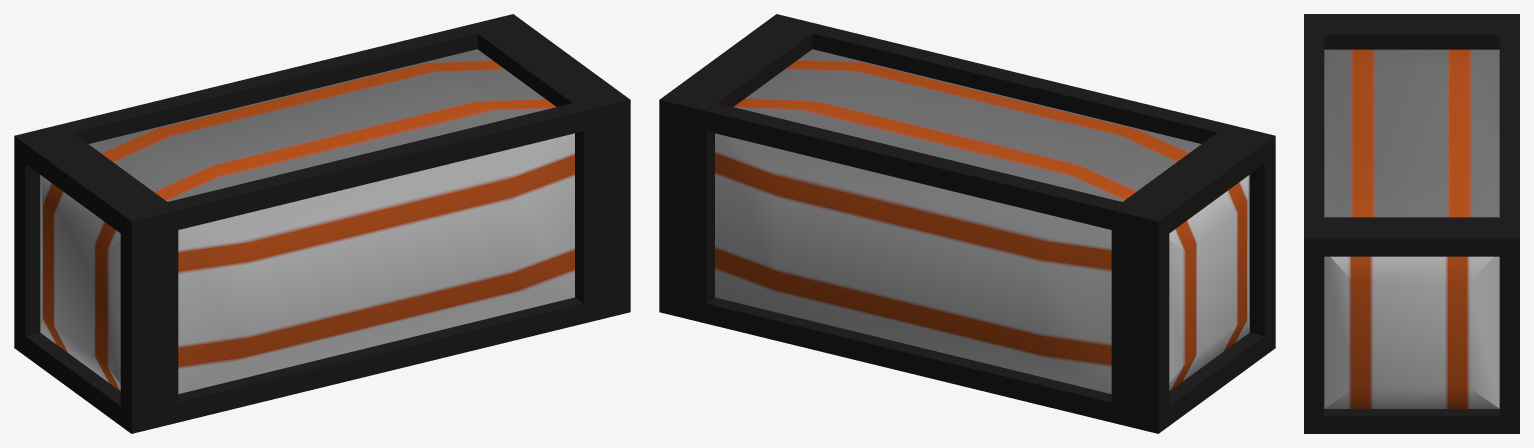
The model's file is Crate_Long.fbx.
The picture shows the model from 3 angles, left to right: view 1: azimuth 30°, elevation 25°; view 2: azimuth 150°, elevation 25°; view 3: azimuth 270°, elevation 25°; orthographic projection. The views are drawn at different scales.
Visible parts, largest first — view 1: Crate_Long; view 2: Crate_Long; view 3: Crate_Long.
Boxes of the visible parts, box(x1,y1,x2,y2) form: Crate_Long: box(14, 14, 630, 433); Crate_Long: box(659, 14, 1275, 433); Crate_Long: box(1304, 14, 1519, 433).
Bounding box in the file's own units: 4.38 × 1.78 × 1.78.
